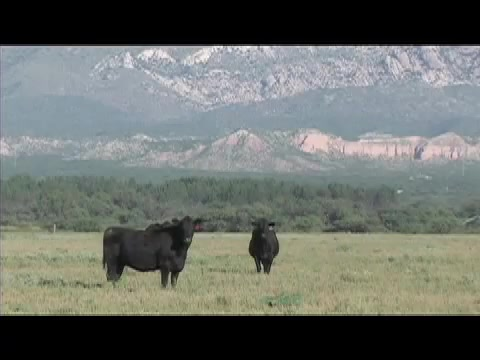cow: (101, 215, 206, 289), (247, 217, 283, 275)
